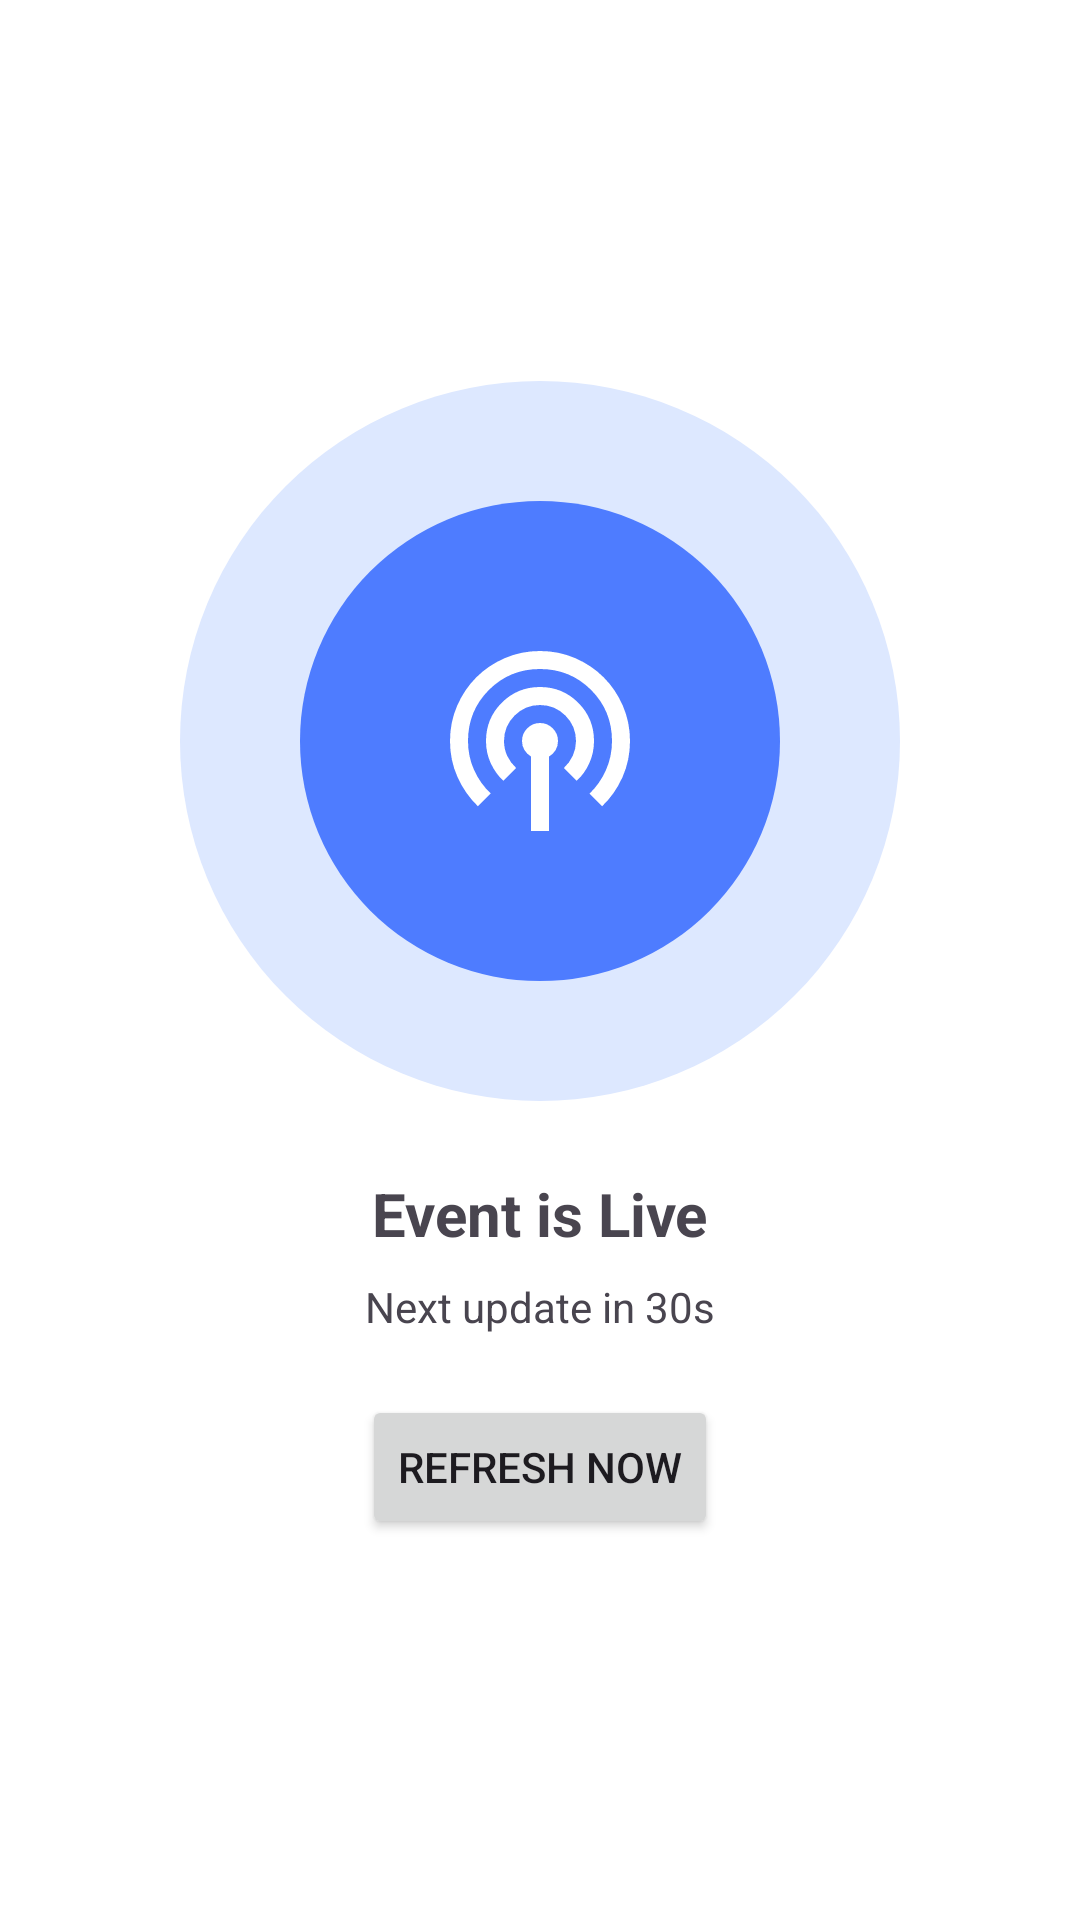

Locate icon controls on the screen. Image size 1080x1920, boxes as (x1, y1, x2, y2).
live: (450, 651, 630, 831)
